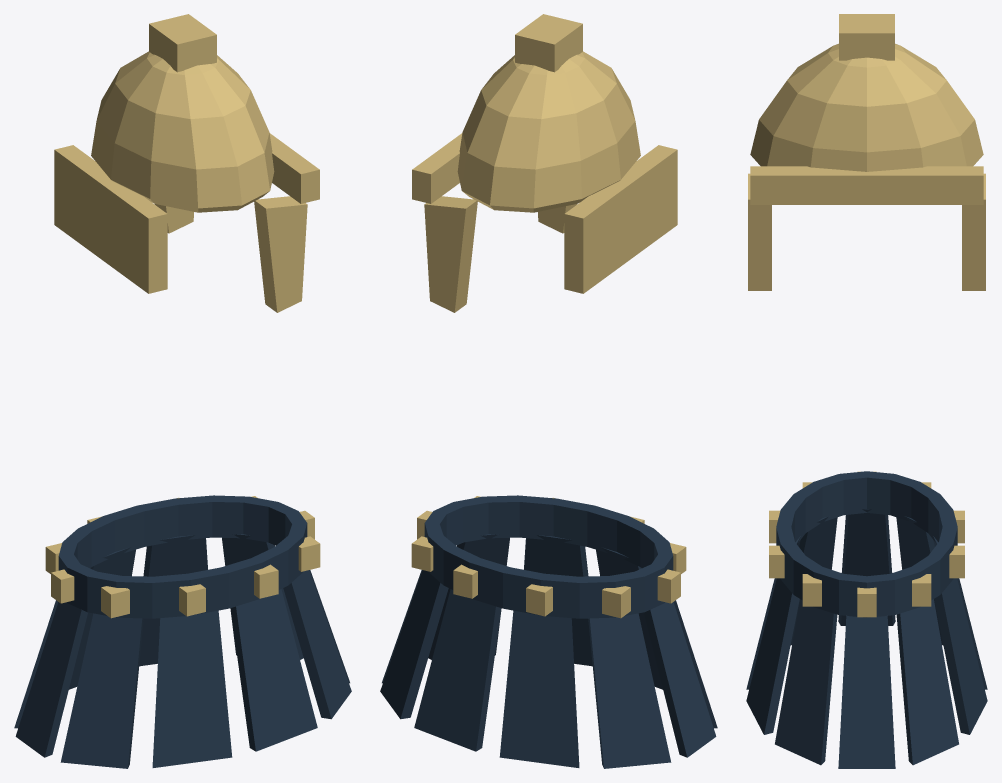
File: candidate.glb
3 renders of one model, left to right at view 1: azimuth 30°, elevation 25°; view 2: azimuth 150°, elevation 25°; view 3: azimuth 270°, elevation 25°, orthographic.
Visible parts, largest first — view 1: Helmet_Galea.002, Skirt_Ten_Separated_Lames.002, Waist_Belt.002; view 2: Helmet_Galea.002, Skirt_Ten_Separated_Lames.002, Waist_Belt.002; view 3: Helmet_Galea.002, Skirt_Ten_Separated_Lames.002, Waist_Belt.002.
Boxes of the visible parts, x1,y1,x2,y2 form: Helmet_Galea.002: (45,14,320,618); Skirt_Ten_Separated_Lames.002: (14,534,351,768); Waist_Belt.002: (58,495,307,618); Helmet_Galea.002: (411,14,686,618); Skirt_Ten_Separated_Lames.002: (380,534,717,768); Waist_Belt.002: (424,495,673,618); Helmet_Galea.002: (748,14,985,617); Skirt_Ten_Separated_Lames.002: (746,509,987,768); Waist_Belt.002: (776,471,957,617).
Size of the model in its own units: 0.1613 by 0.343 by 0.1117.
